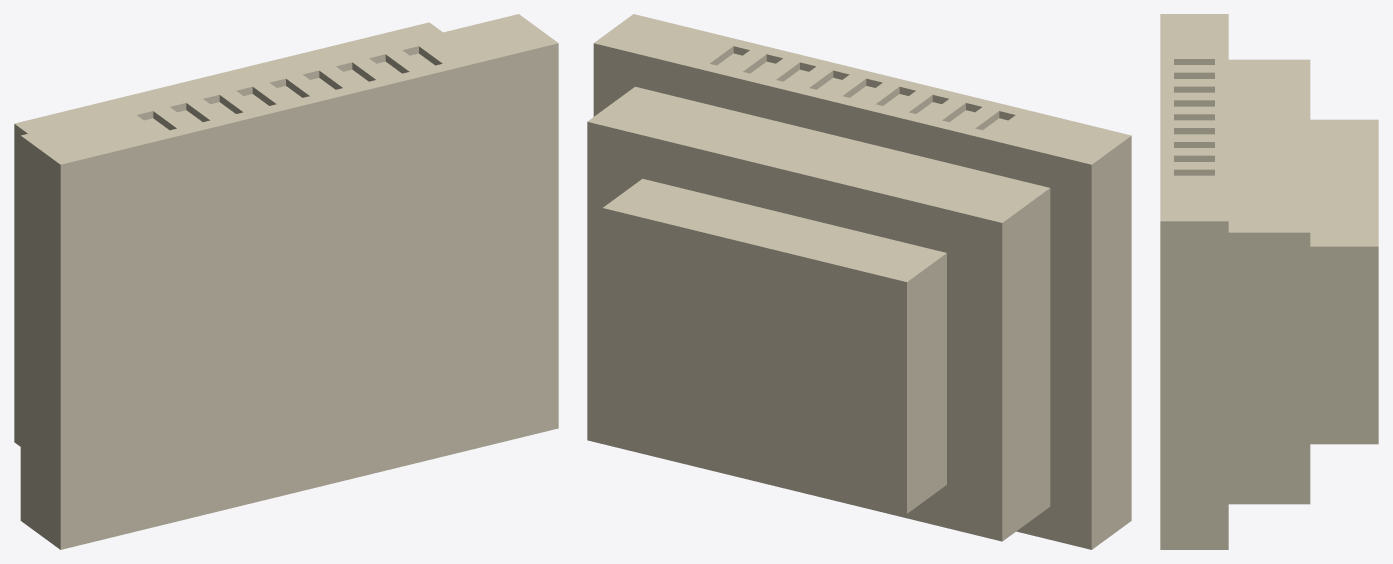
File: MonitorBody.fbx
The picture shows the model from 3 angles, left to right: view 1: azimuth 30°, elevation 25°; view 2: azimuth 150°, elevation 25°; view 3: azimuth 270°, elevation 25°; orthographic projection. The views are drawn at different scales.
Visible parts, largest first — view 1: MonitorBody; view 2: MonitorBody; view 3: MonitorBody.
Part boxes in pixels (box(x1,y1,x2,y2)): MonitorBody: box(14, 14, 558, 549); MonitorBody: box(587, 14, 1131, 549); MonitorBody: box(1160, 14, 1378, 549).
Bounding box in the file's own units: 0.18 × 0.133 × 0.08.
